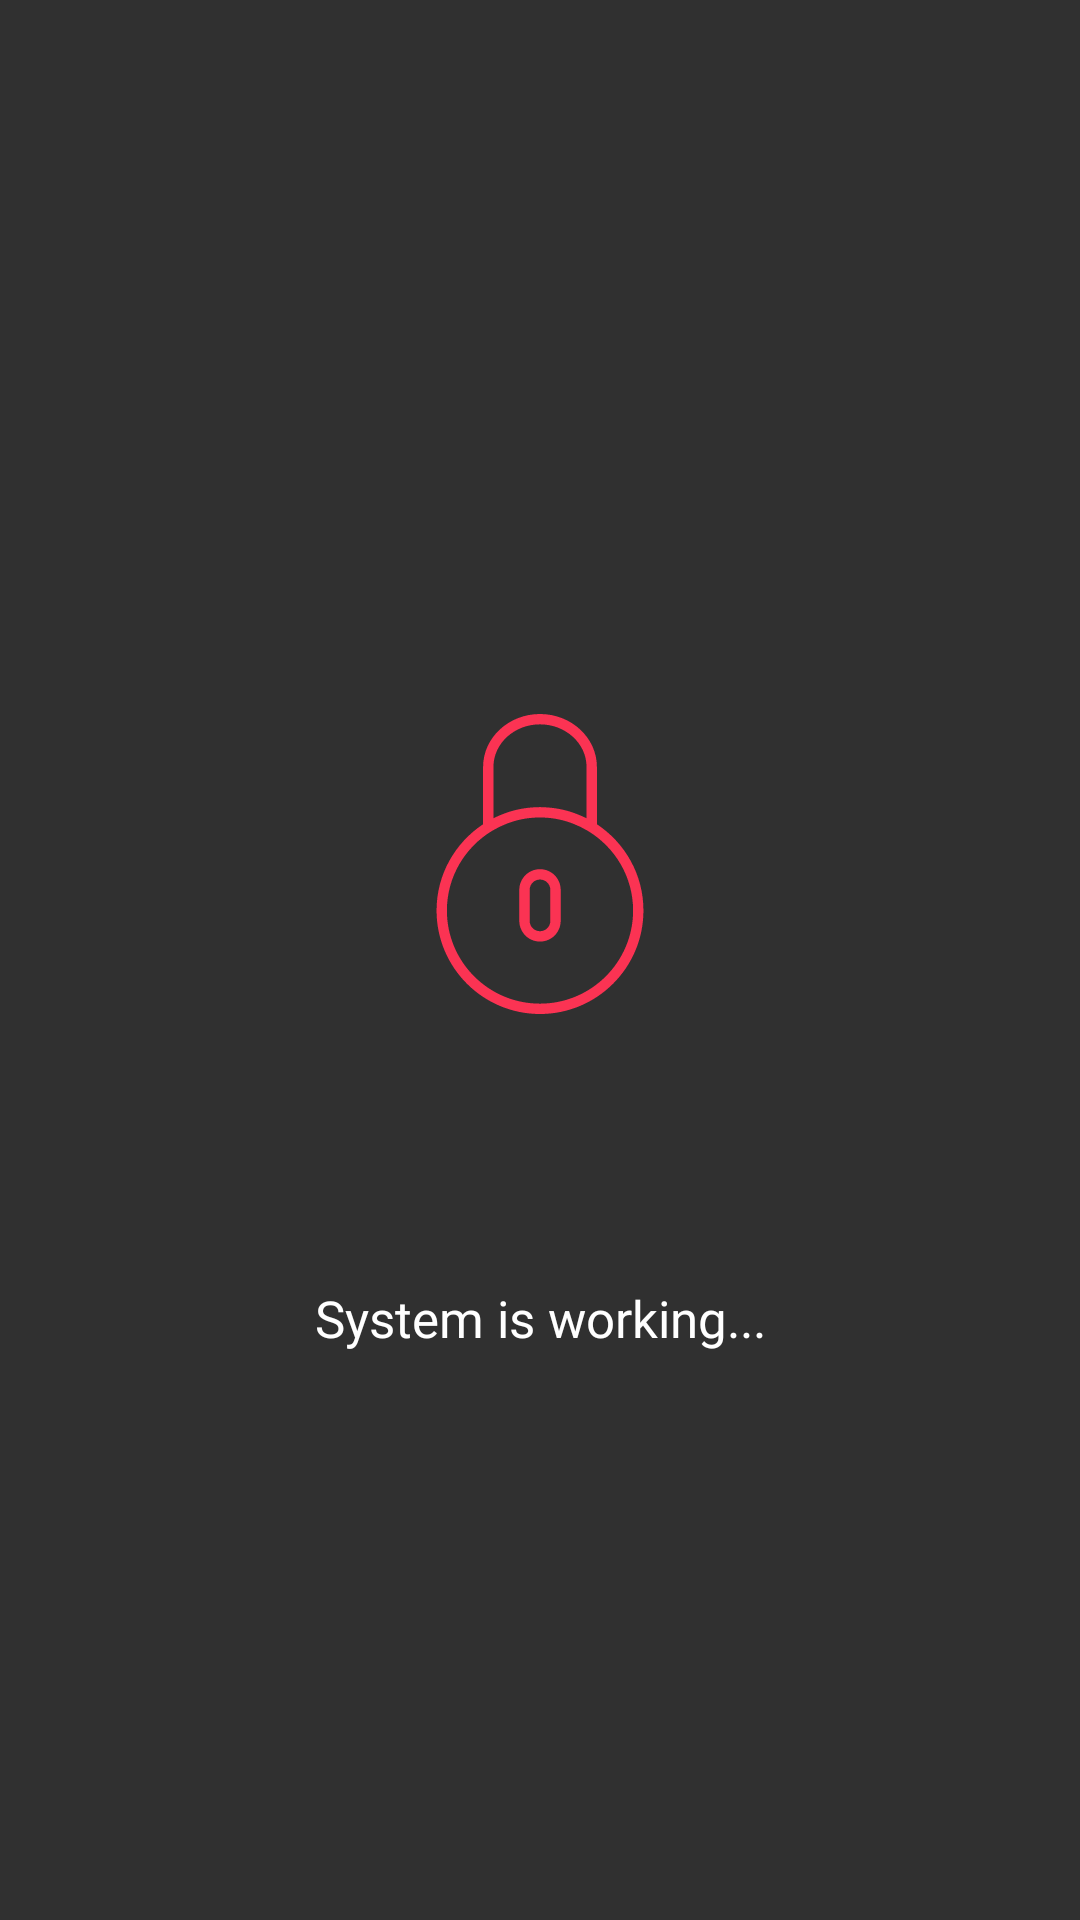

Icon bounding boxes for this 1080 × 1920 phone screenshot, format (x1, y1, x2, y2):
locked on: (436, 714, 644, 1014)
